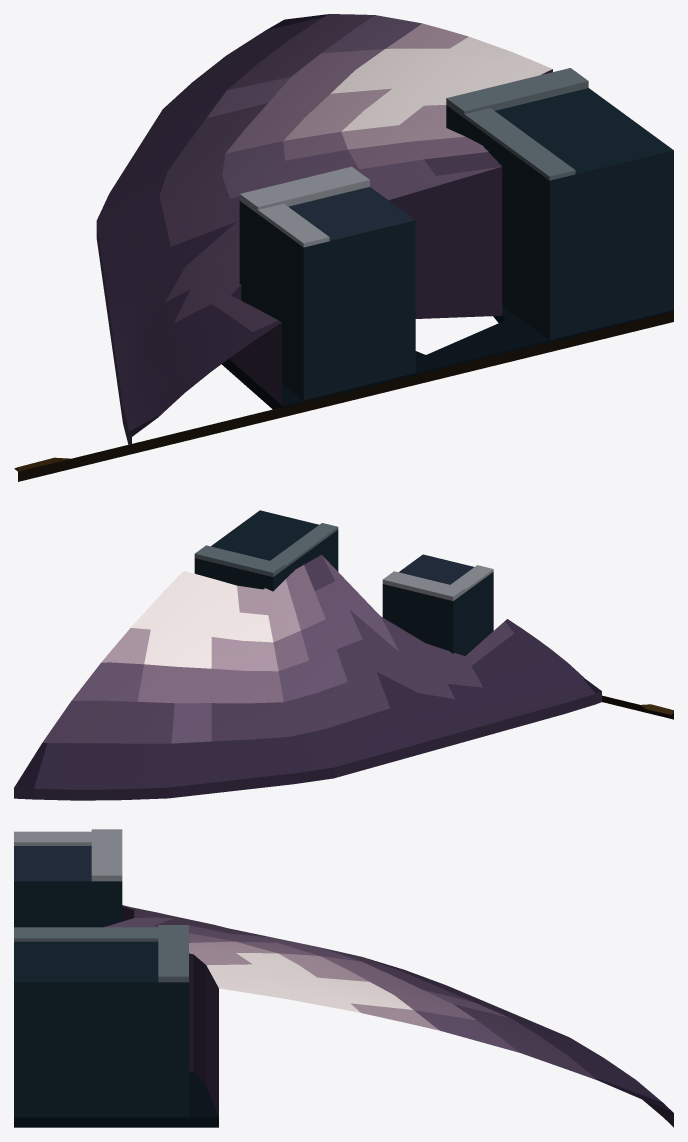
Rendered from newshr-5.glb.
3 views of the same model, one above another, from view 1: azimuth 30°, elevation 25°; view 2: azimuth 150°, elevation 25°; view 3: azimuth 270°, elevation 25° (orthographic). The views are drawn at different scales.
Parts seen in each view (by area): view 1: newshr-5; view 2: newshr-5; view 3: newshr-5.
Part boxes in pixels (left/top/right/bottom): newshr-5: left=14, top=14, right=673, bottom=481; newshr-5: left=14, top=510, right=673, bottom=800; newshr-5: left=14, top=829, right=673, bottom=1127.
Size of the model in its own units: 2 by 0.52 by 2.06.
